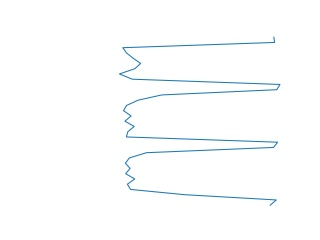majorRiverChannelBar: (117, 38, 282, 205)
